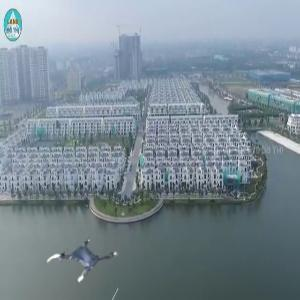drone: (48, 230, 112, 294)
